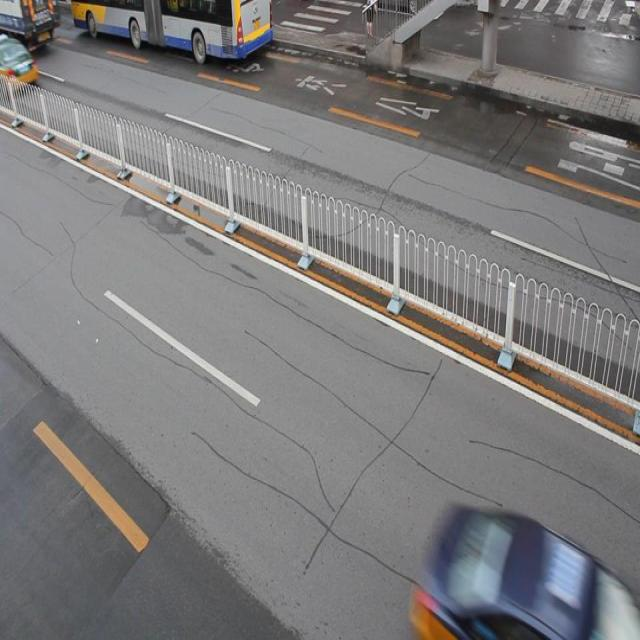bus: (1, 1, 56, 46)
car: (424, 499, 640, 640), (1, 37, 38, 98)
van: (71, 1, 272, 63)
